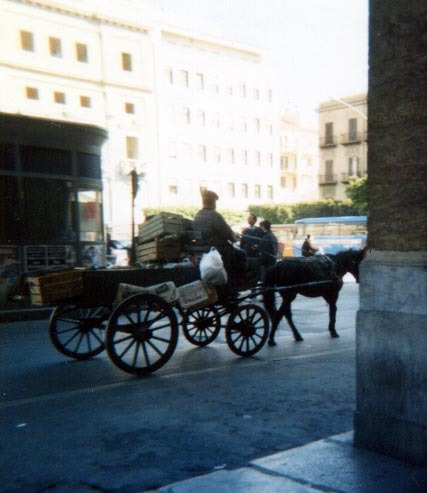horse: (258, 245, 369, 344)
